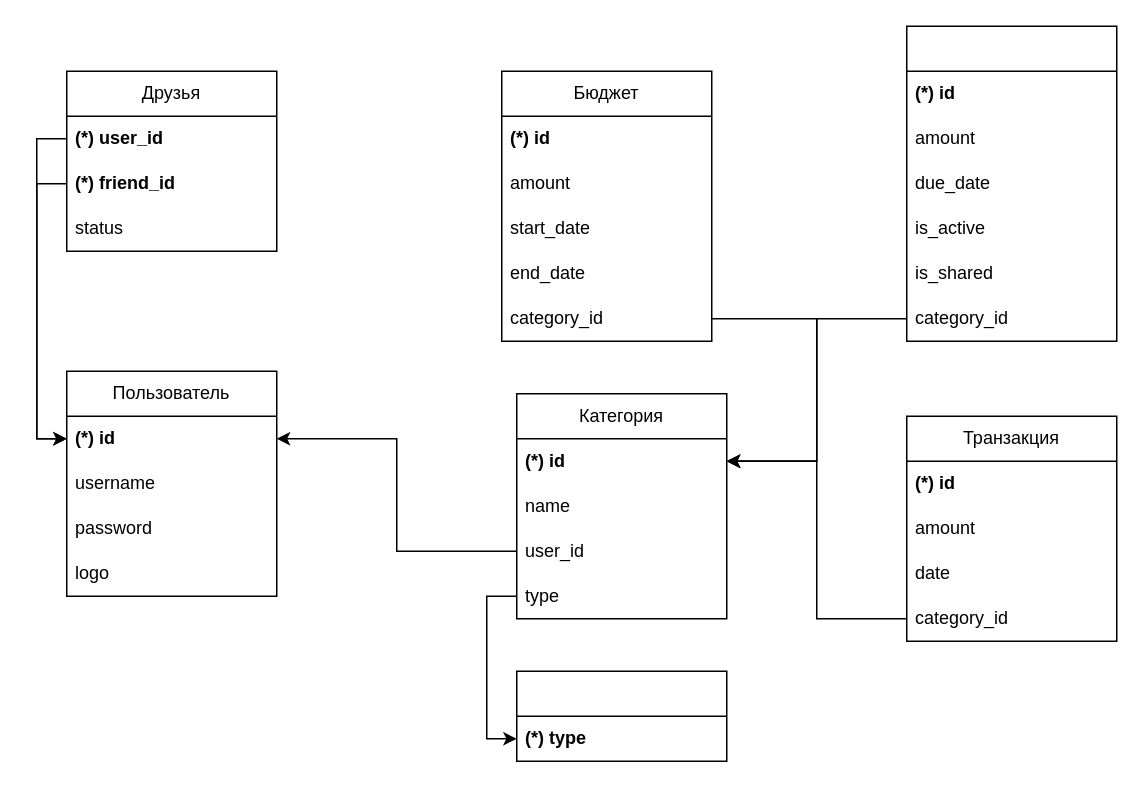
Image size: 1143x788. Some labels were removed from this diagram. The box of each missing label's shape, as (x1, y1, x2, y2) in pixels:
Напоминание: (905, 25, 1117, 341)
Тип категории: (515, 670, 727, 761)
